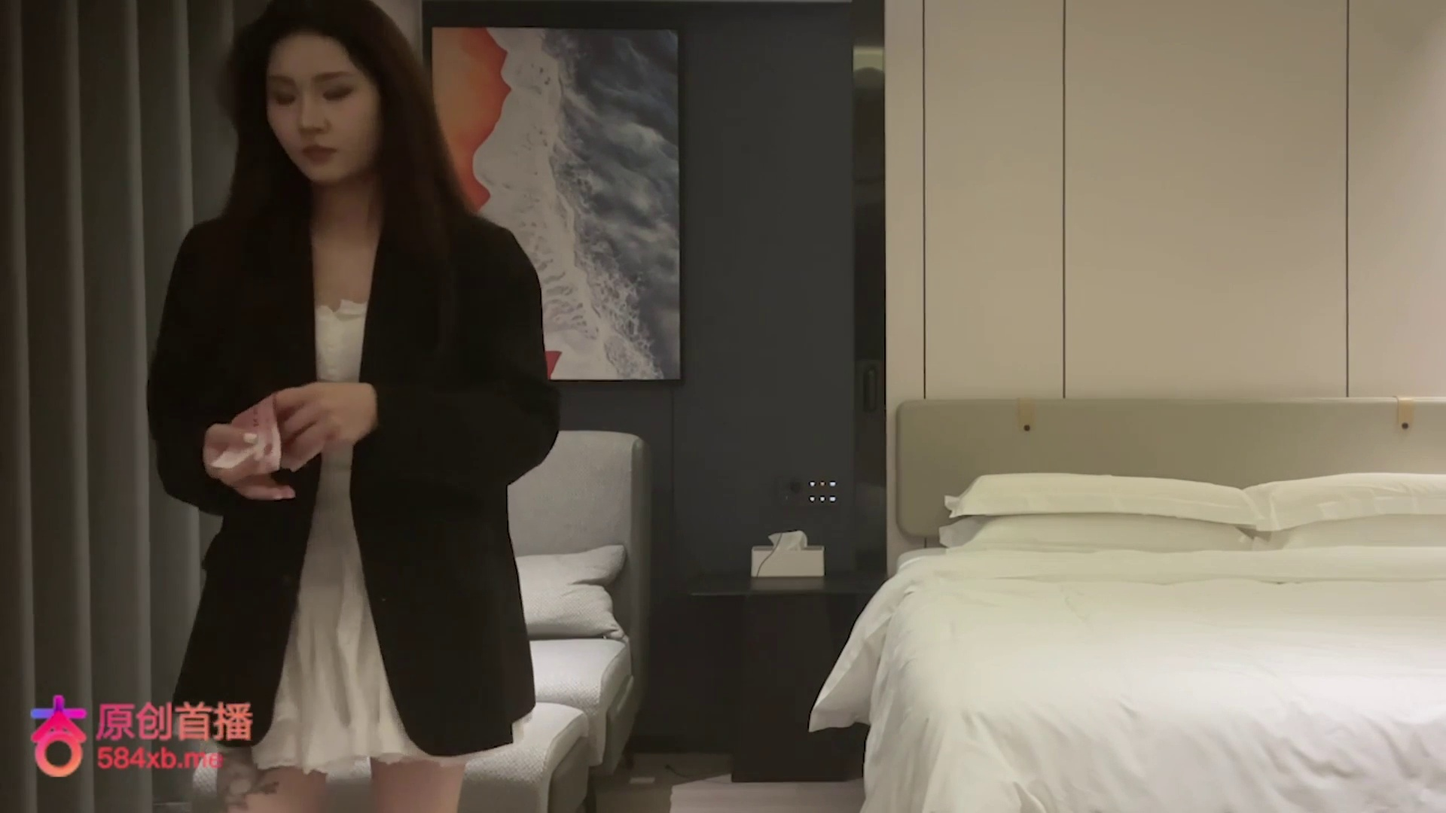stand: (144, 2, 562, 803)
